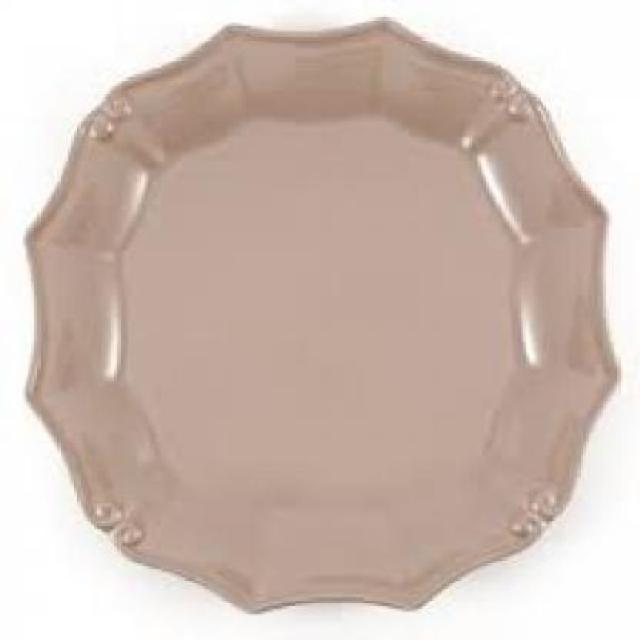kaca: (23, 14, 614, 609)
